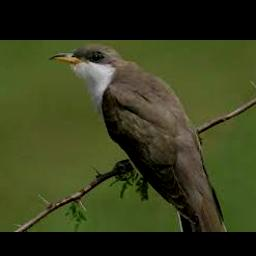Cuckoo: (50, 44, 228, 232)
